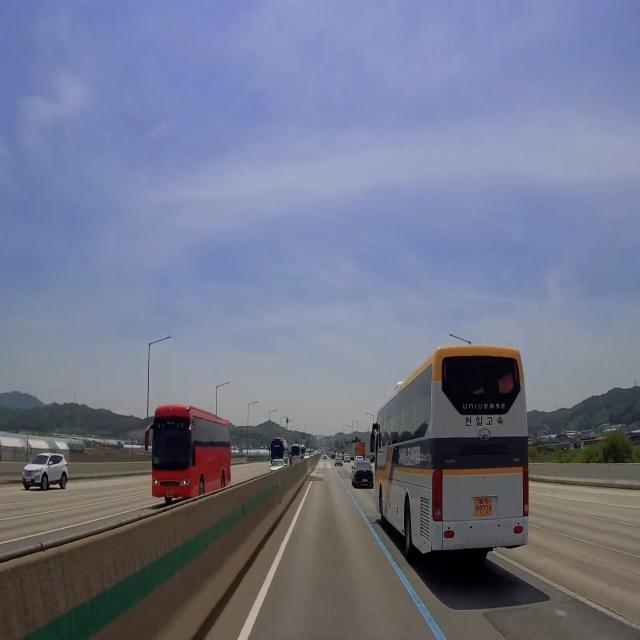car: (470, 493, 502, 527), (163, 488, 179, 502), (360, 477, 373, 487), (23, 476, 35, 484)
